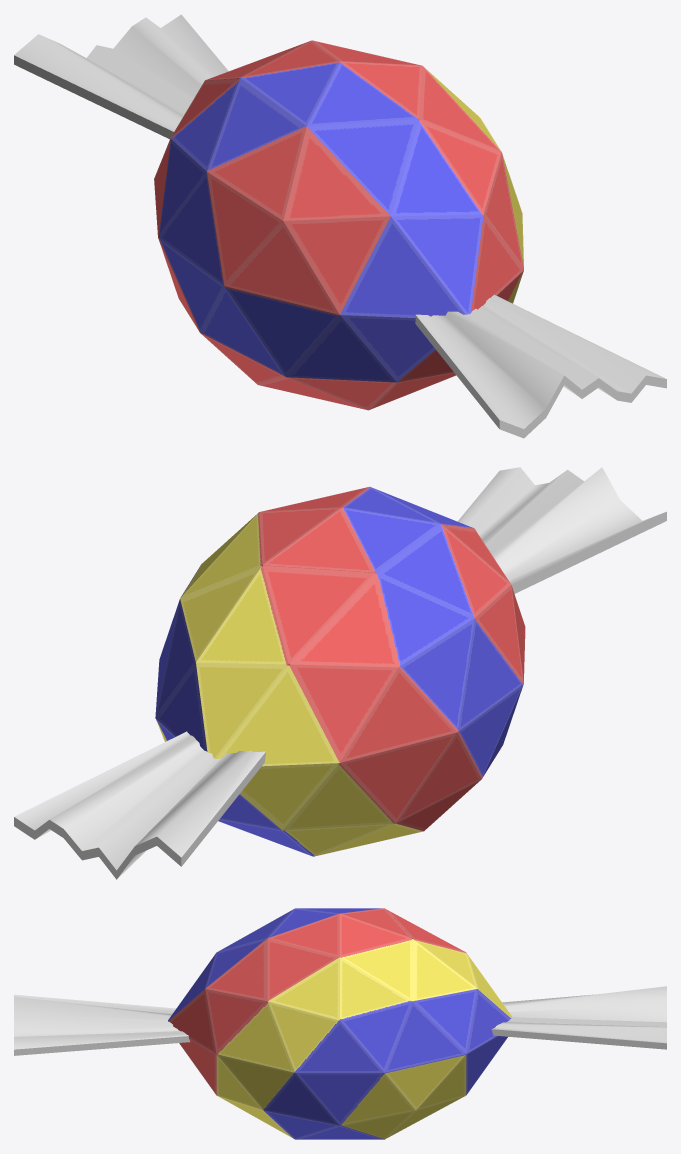
The model's file is Candy.FBX.
3 views of the same model, one above another, from view 1: azimuth 30°, elevation 25°; view 2: azimuth 150°, elevation 25°; view 3: azimuth 270°, elevation 25° (orthographic). The views are drawn at different scales.
Parts seen in each view (by area): view 1: GeoSphere001, Box002, Box001; view 2: GeoSphere001, Box001, Box002; view 3: GeoSphere001, Box001, Box002.
Part boxes in pixels (bbox=[...]): GeoSphere001: bbox=[154, 40, 523, 410]; Box002: bbox=[415, 294, 666, 438]; Box001: bbox=[14, 14, 228, 139]; GeoSphere001: bbox=[155, 486, 525, 856]; Box001: bbox=[14, 731, 265, 879]; Box002: bbox=[457, 467, 666, 593]; GeoSphere001: bbox=[168, 908, 512, 1139]; Box001: bbox=[491, 986, 666, 1049]; Box002: bbox=[14, 994, 190, 1055].
Bounding box in the file's own units: 46.07 × 48.44 × 130.
1 material, 1 textured.
